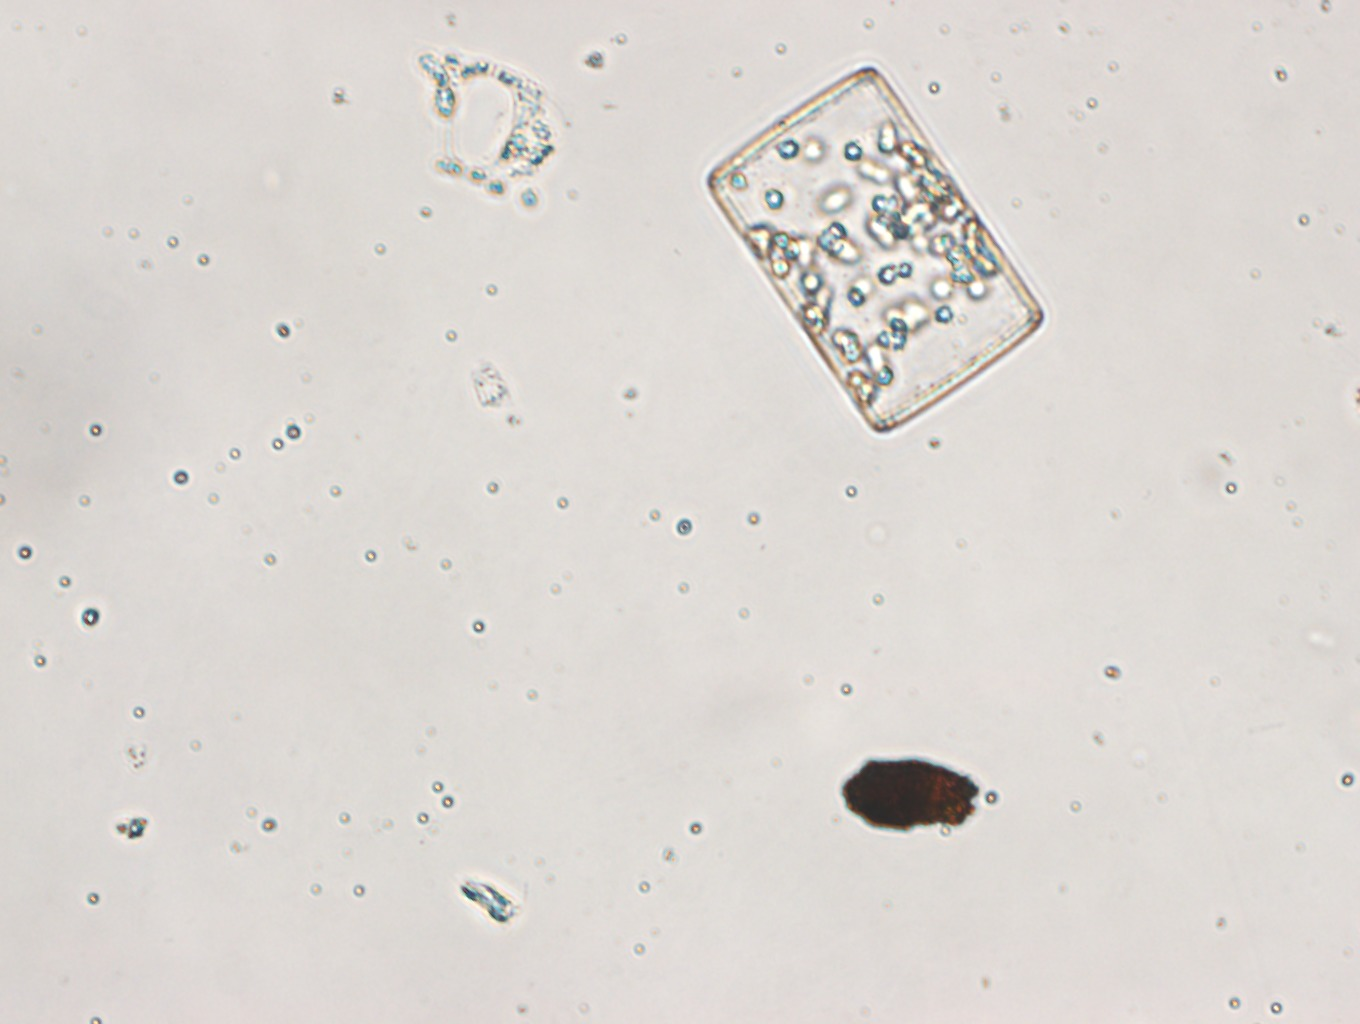guinardia flaccida: (705, 63, 1043, 435)
